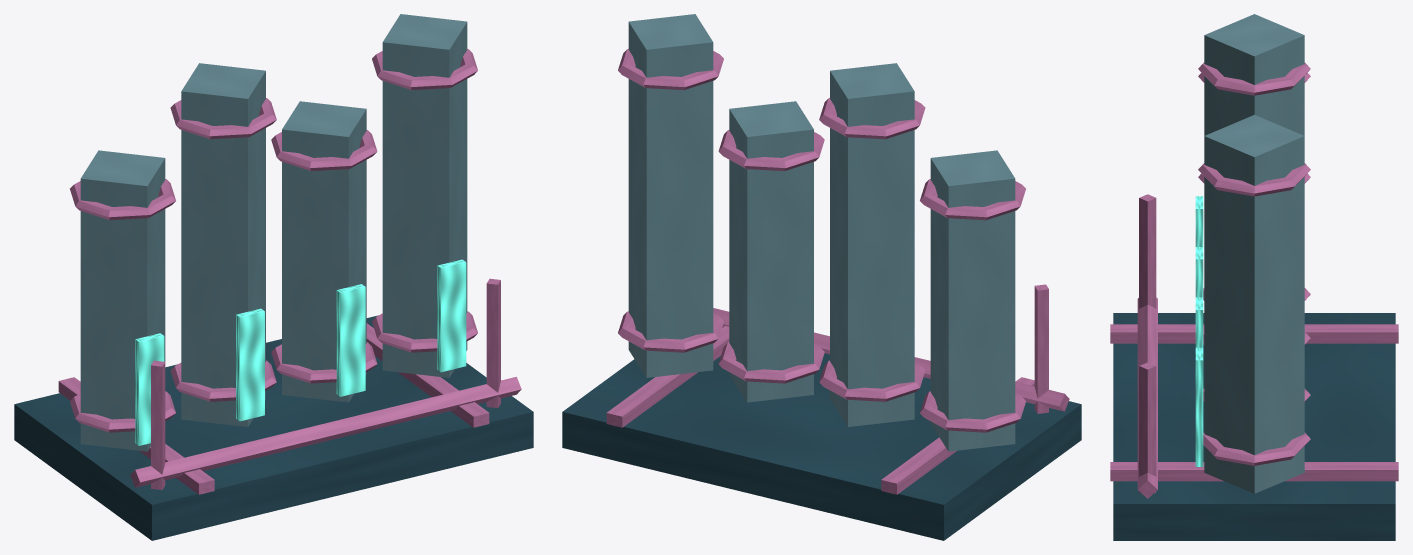
Rendered from atlas100-s062-a01.lod2.glb.
The picture shows the model from 3 angles, left to right: view 1: azimuth 30°, elevation 25°; view 2: azimuth 150°, elevation 25°; view 3: azimuth 270°, elevation 25°; orthographic projection. The views are drawn at different scales.
Parts seen in each view (by area): view 1: atlas100-s062-a01:part-000, atlas100-s062-a01:part-018, atlas100-s062-a01:part-008, atlas100-s062-a01:part-003, atlas100-s062-a01:part-013, atlas100-s062-a01:part-027, atlas100-s062-a01:part-017, atlas100-s062-a01:part-022, atlas100-s062-a01:part-012, atlas100-s062-a01:part-007, atlas100-s062-a01:part-023, atlas100-s062-a01:part-025 (+10 smaller); view 2: atlas100-s062-a01:part-000, atlas100-s062-a01:part-018, atlas100-s062-a01:part-008, atlas100-s062-a01:part-003, atlas100-s062-a01:part-013, atlas100-s062-a01:part-002, atlas100-s062-a01:part-023, atlas100-s062-a01:part-001, atlas100-s062-a01:part-010, atlas100-s062-a01:part-009, atlas100-s062-a01:part-005, atlas100-s062-a01:part-019 (+5 smaller); view 3: atlas100-s062-a01:part-000, atlas100-s062-a01:part-018, atlas100-s062-a01:part-008, atlas100-s062-a01:part-002, atlas100-s062-a01:part-001, atlas100-s062-a01:part-027, atlas100-s062-a01:part-025, atlas100-s062-a01:part-023, atlas100-s062-a01:part-020, atlas100-s062-a01:part-010, atlas100-s062-a01:part-019, atlas100-s062-a01:part-022 (+3 smaller).
Boxes of the visible parts, x1,y1,x2,y2 form: atlas100-s062-a01:part-000: [14, 315, 533, 540]; atlas100-s062-a01:part-018: [382, 14, 467, 377]; atlas100-s062-a01:part-008: [181, 63, 265, 426]; atlas100-s062-a01:part-003: [80, 150, 165, 451]; atlas100-s062-a01:part-013: [282, 101, 366, 402]; atlas100-s062-a01:part-027: [130, 376, 521, 487]; atlas100-s062-a01:part-017: [336, 284, 365, 396]; atlas100-s062-a01:part-022: [437, 259, 466, 372]; atlas100-s062-a01:part-012: [236, 308, 264, 421]; atlas100-s062-a01:part-007: [135, 333, 164, 445]; atlas100-s062-a01:part-023: [151, 360, 165, 489]; atlas100-s062-a01:part-025: [486, 278, 500, 407]; atlas100-s062-a01:part-000: [562, 353, 1081, 540]; atlas100-s062-a01:part-018: [628, 14, 713, 377]; atlas100-s062-a01:part-008: [830, 63, 914, 426]; atlas100-s062-a01:part-003: [930, 150, 1015, 451]; atlas100-s062-a01:part-013: [729, 101, 813, 402]; atlas100-s062-a01:part-002: [606, 326, 729, 427]; atlas100-s062-a01:part-023: [1034, 284, 1048, 413]; atlas100-s062-a01:part-001: [881, 377, 1034, 494]; atlas100-s062-a01:part-010: [819, 98, 925, 139]; atlas100-s062-a01:part-009: [819, 360, 925, 401]; atlas100-s062-a01:part-005: [920, 179, 1025, 220]; atlas100-s062-a01:part-019: [618, 311, 723, 352]; atlas100-s062-a01:part-000: [1113, 313, 1395, 540]; atlas100-s062-a01:part-018: [1204, 115, 1304, 493]; atlas100-s062-a01:part-008: [1204, 14, 1304, 135]; atlas100-s062-a01:part-002: [1110, 462, 1398, 481]; atlas100-s062-a01:part-001: [1110, 324, 1398, 343]; atlas100-s062-a01:part-027: [1137, 297, 1157, 498]; atlas100-s062-a01:part-025: [1139, 362, 1156, 493]; atlas100-s062-a01:part-023: [1139, 194, 1156, 308]; atlas100-s062-a01:part-020: [1198, 163, 1310, 196]; atlas100-s062-a01:part-010: [1198, 62, 1310, 95]; atlas100-s062-a01:part-019: [1203, 432, 1310, 465]; atlas100-s062-a01:part-022: [1195, 347, 1203, 466].
Size of the model in its own units: 3 by 2.71 by 1.84.
Materials: 4 (4 with a texture image).
